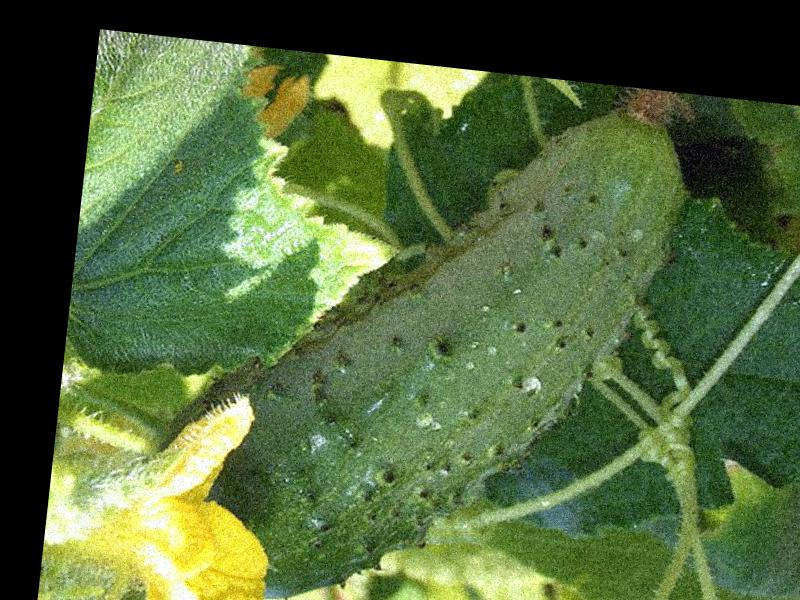Cucumber: (141, 41, 696, 600)
